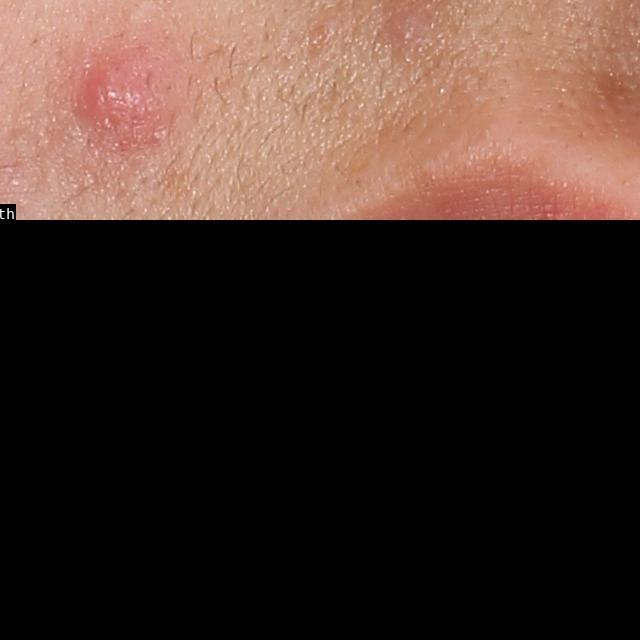papule: (81, 58, 168, 151), (391, 9, 424, 43)
